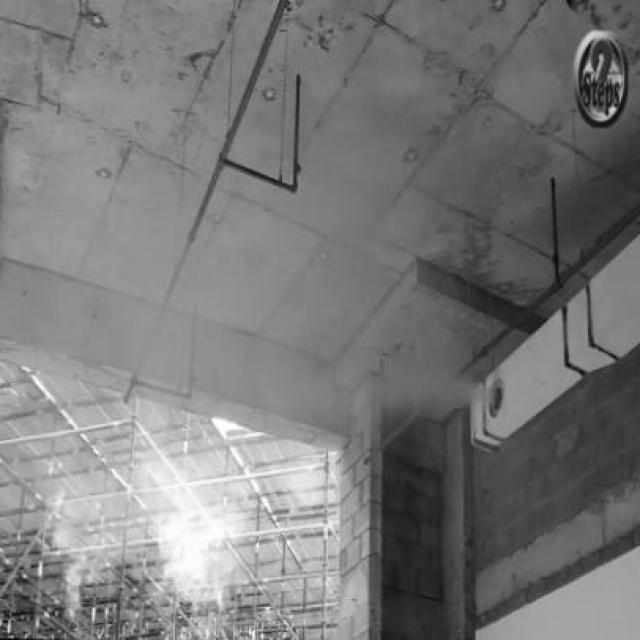fire: (137, 445, 254, 608), (391, 324, 498, 418)
